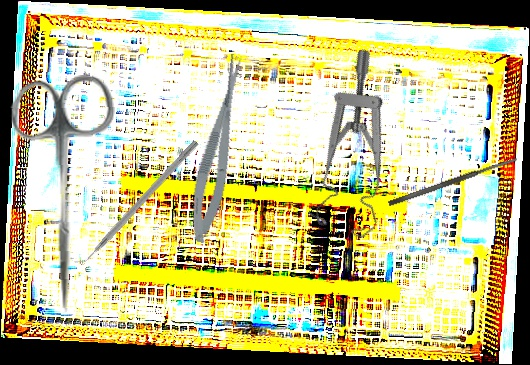Chopper: (69, 133, 200, 270)
Iris Scissors: (8, 73, 122, 314)
Micro Scissor: (181, 51, 256, 246)
Spatula Surgical: (387, 156, 519, 207)
Speculum: (276, 46, 448, 249)
